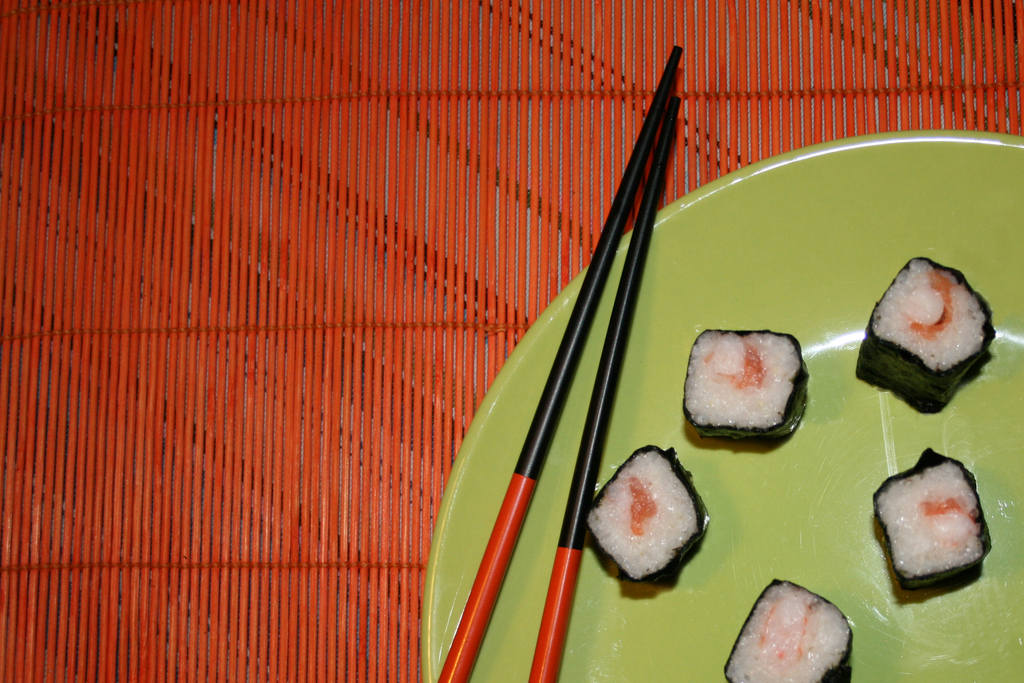sushi: (855, 255, 993, 415), (586, 441, 714, 583), (872, 449, 993, 587), (726, 579, 855, 682), (683, 327, 805, 435)
